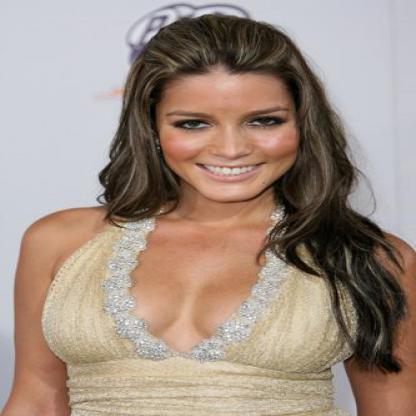long-hair: (90, 203, 365, 225)
